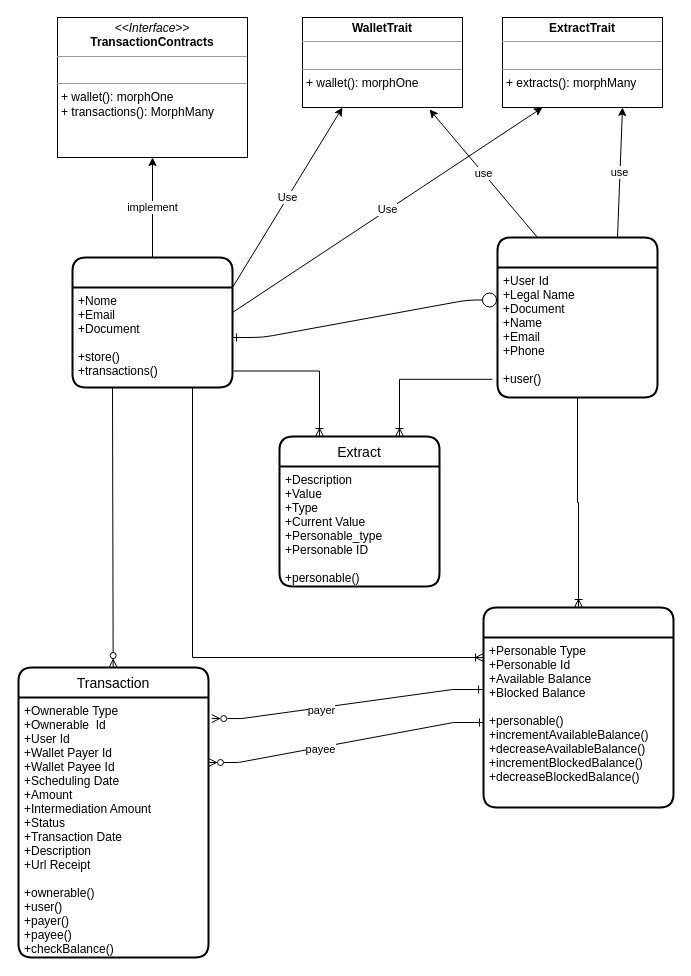
Some shapes in this 691 by 976 pixel diagram are drawn without their labels. The box of each missing label's shape, as (x1, y1, x2, y2) in pixels:
Store: (496, 236, 658, 398)
User: (71, 256, 233, 388)
Wallet: (482, 606, 674, 808)
